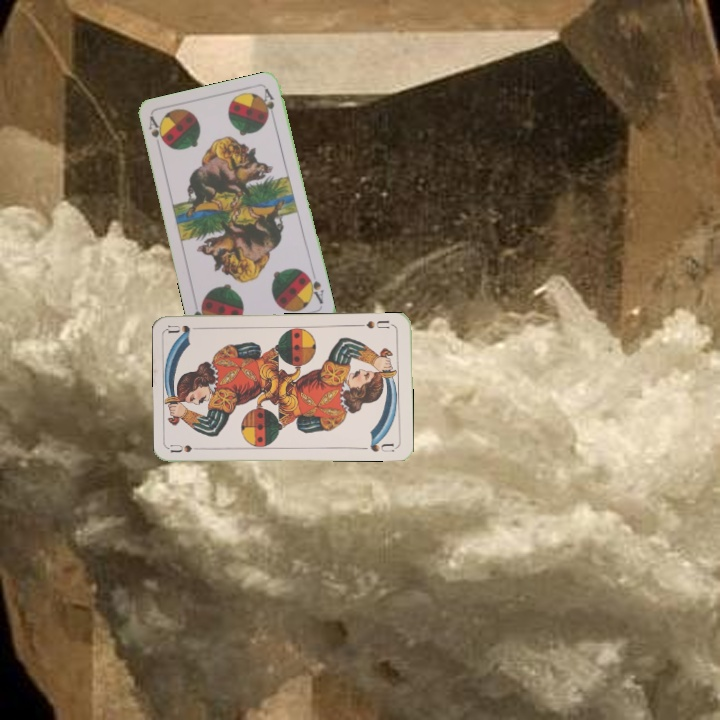SA: (144, 113, 168, 153), (303, 270, 326, 306)
SU: (355, 316, 396, 331), (168, 441, 209, 455)
